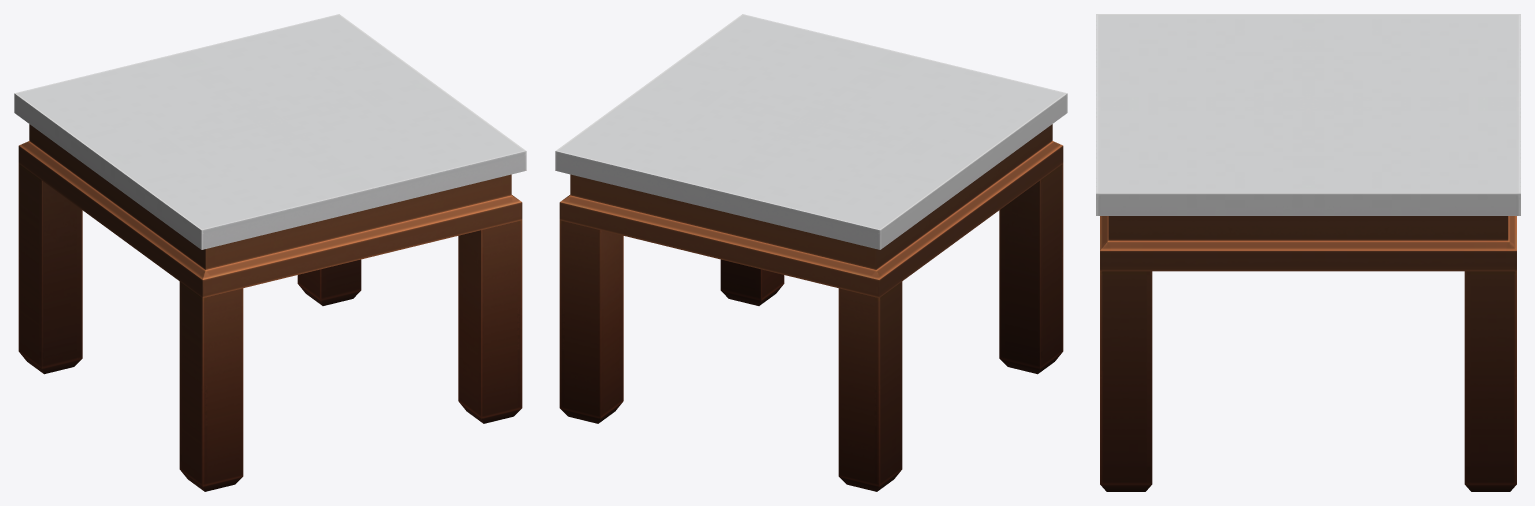
Rendered from my_chocolatecafe_01_p_table_01.glb.
The picture shows the model from 3 angles, left to right: view 1: azimuth 30°, elevation 25°; view 2: azimuth 150°, elevation 25°; view 3: azimuth 270°, elevation 25°; orthographic projection. The views are drawn at different scales.
Parts seen in each view (by area): view 1: my_chocolatecafe_01_p_table_01; view 2: my_chocolatecafe_01_p_table_01; view 3: my_chocolatecafe_01_p_table_01.
Boxes of the visible parts, x1,y1,x2,y2 form: my_chocolatecafe_01_p_table_01: (14,14,526,491); my_chocolatecafe_01_p_table_01: (555,14,1067,491); my_chocolatecafe_01_p_table_01: (1096,14,1520,491).
Size of the model in its own units: 0.00433 by 0.0034 by 0.00432.
1 material, 1 textured.
